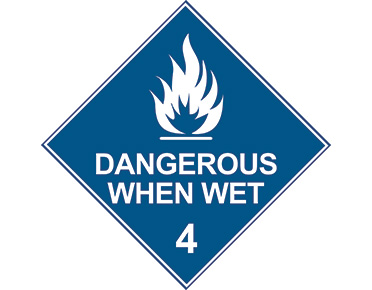DangerousWhenWet: (47, 7, 340, 278)
